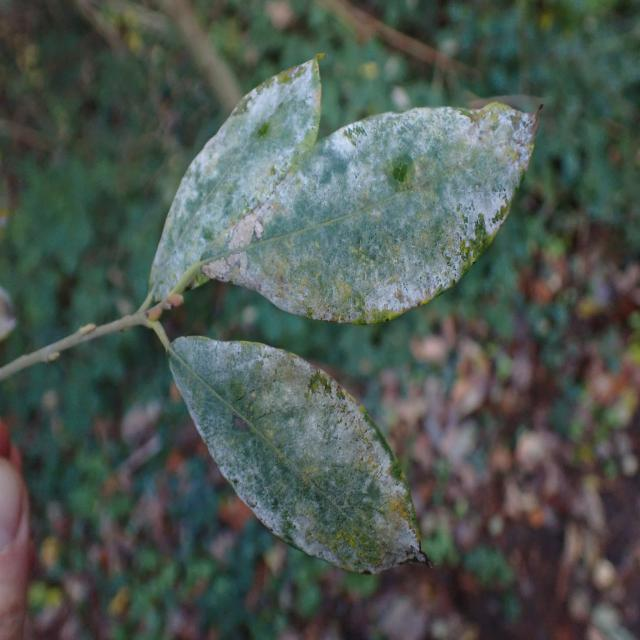powdery_mildew: (150, 59, 538, 324), (168, 336, 426, 573)
